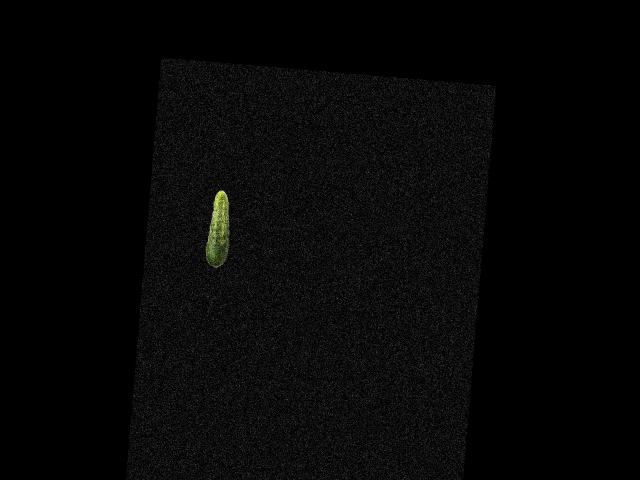cucumber: (204, 190, 234, 269)
